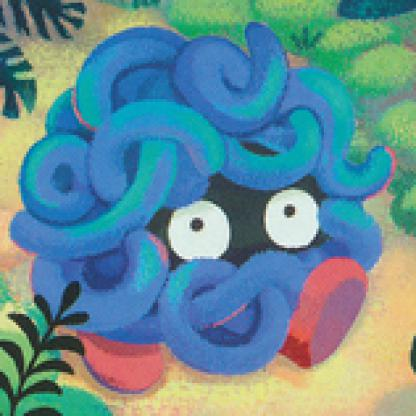Tangela: (21, 29, 406, 390)
